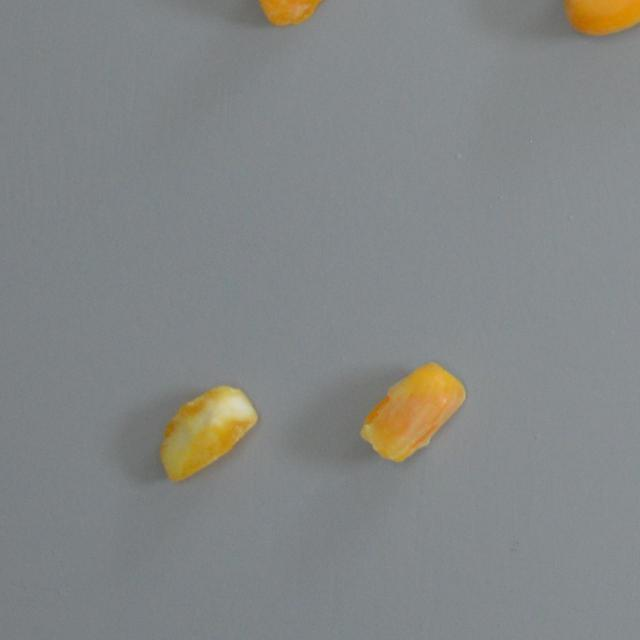dañado: (356, 355, 468, 470), (154, 381, 260, 486), (554, 0, 640, 38), (246, 0, 352, 30)
